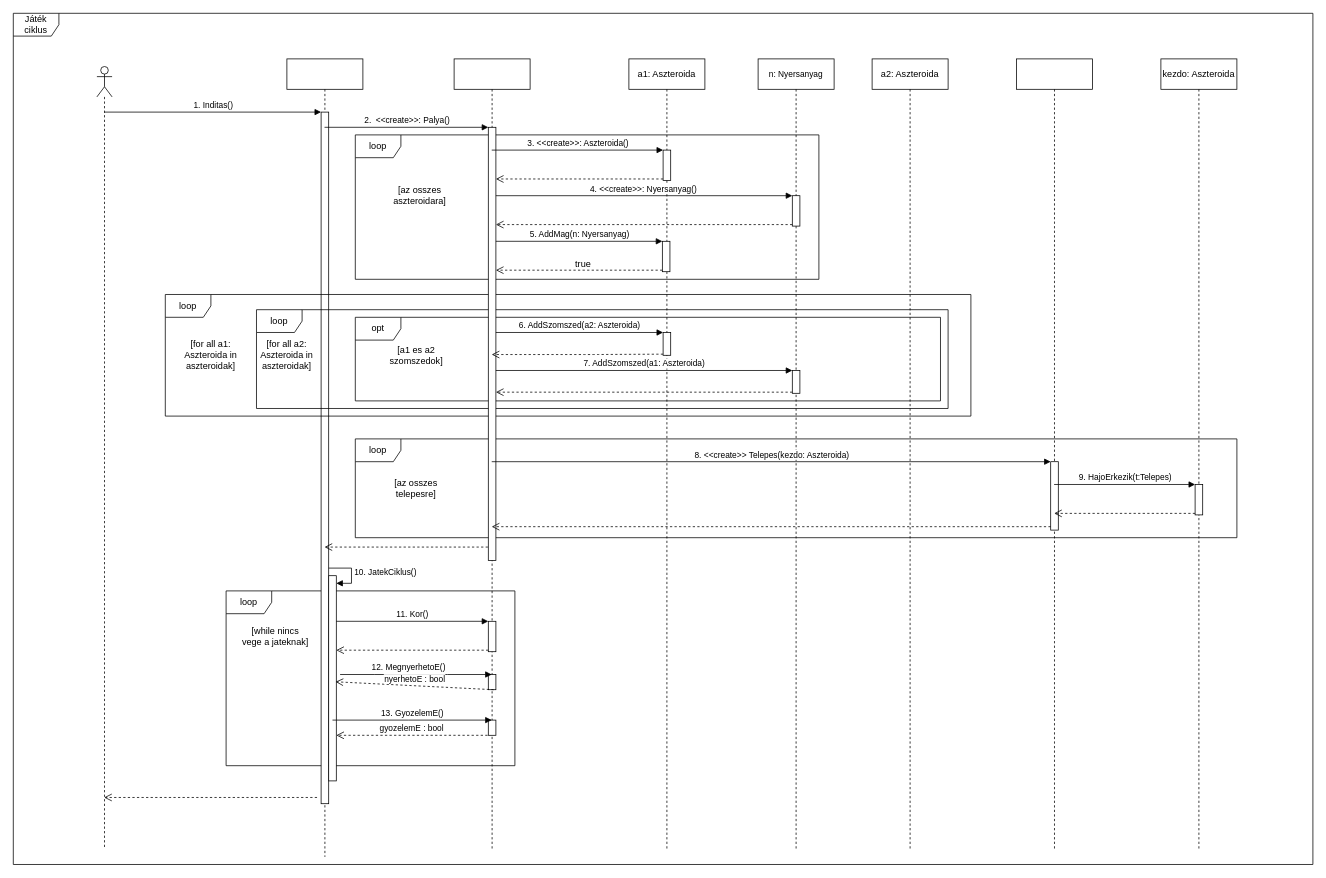
The diagram is 1326 pixels wide and 878 high, and some of its shapes have lost their labels. Here are the shapes that lost their labels. From the top down, the box of each, then its label:
(96, 66, 112, 849): Player
(286, 58, 363, 857): j: Jatek
(453, 58, 530, 849): p: Palya
(1016, 58, 1092, 849): t: Telepes
